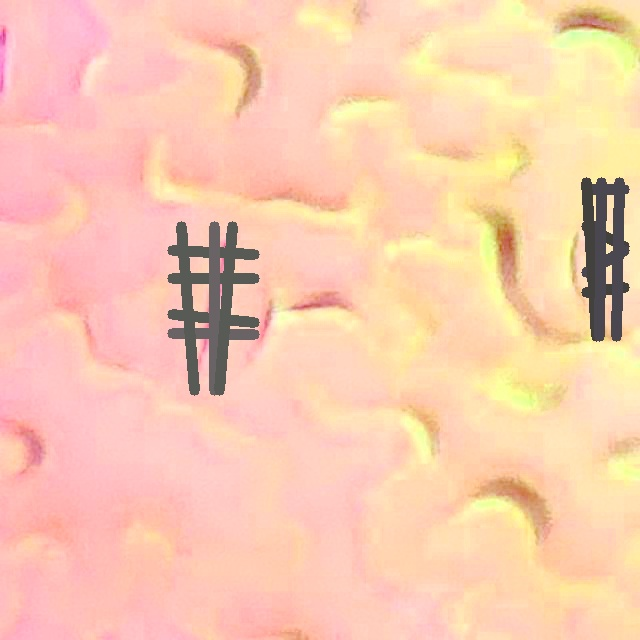close: (167, 221, 259, 394), (581, 177, 629, 341)
